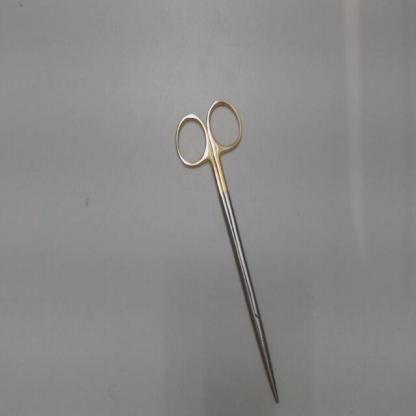7 Metzenbaum Scissors: (170, 90, 283, 407)
